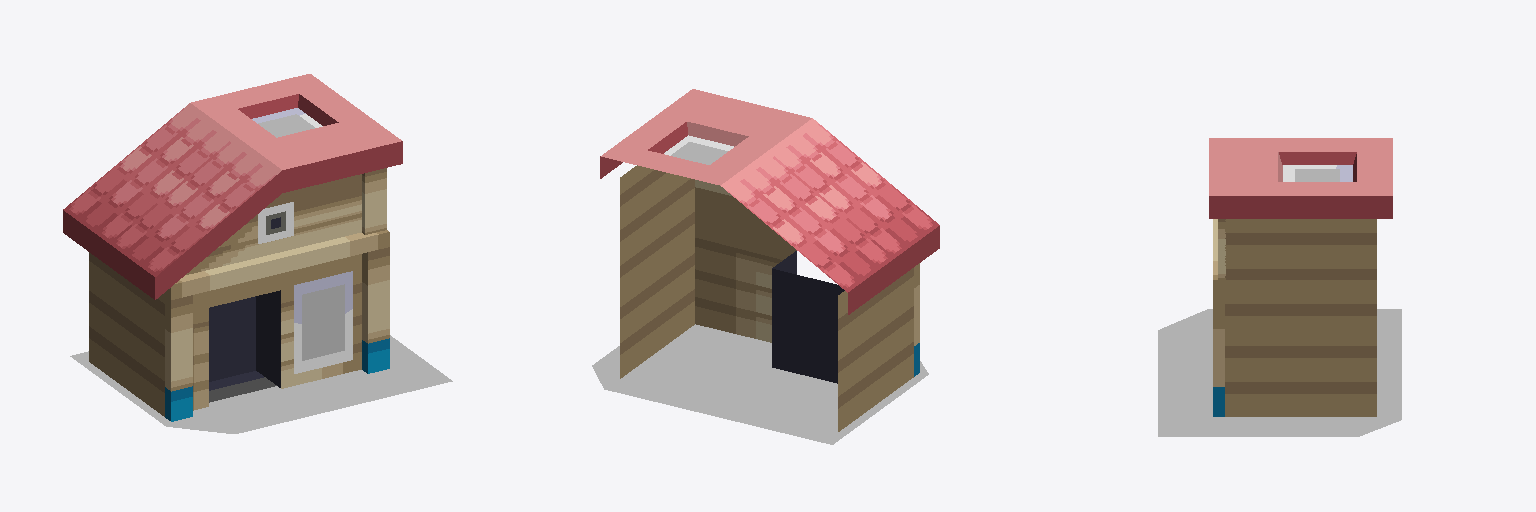
The picture shows the model from 3 angles: view 1: azimuth 30°, elevation 25°; view 2: azimuth 150°, elevation 25°; view 3: azimuth 270°, elevation 25°; orthographic projection.
Visible parts, largest first — view 1: polygon0, polygon2, polygon1; view 2: polygon0, polygon2, polygon1; view 3: polygon0, polygon2, polygon1.
Part boxes in pixels (left/top/right/bottom): polygon0: left=63, top=74, right=402, bottom=421; polygon2: left=70, top=335, right=452, bottom=433; polygon1: left=258, top=114, right=344, bottom=360; polygon0: left=600, top=89, right=939, bottom=431; polygon2: left=592, top=324, right=928, bottom=444; polygon1: left=671, top=142, right=727, bottom=164; polygon0: left=1209, top=138, right=1392, bottom=416; polygon2: left=1158, top=309, right=1401, bottom=436; polygon1: left=1295, top=169, right=1339, bottom=181.
Bounding box in the file's own units: 9.38 × 7.49 × 7.25.
Materials: 3 (1 with a texture image).